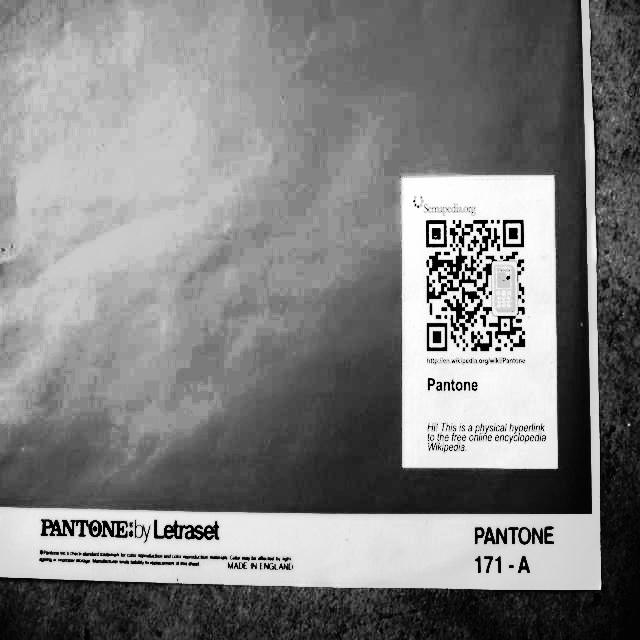qr_code: (426, 220, 525, 351)
